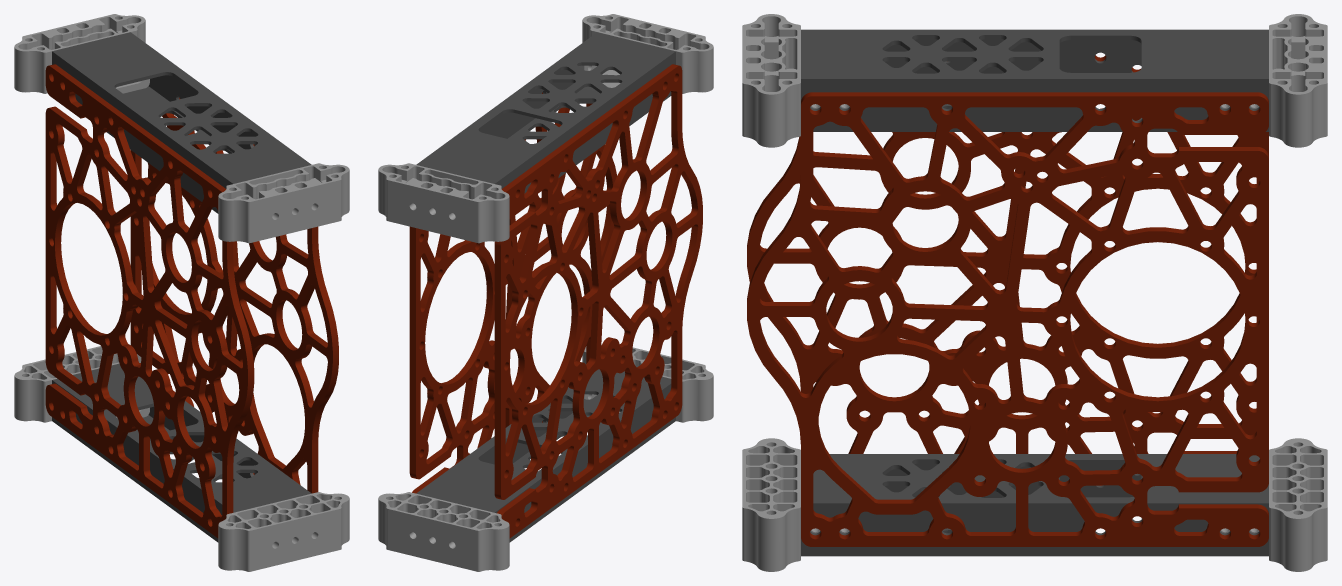
The picture shows the model from 3 angles, left to right: view 1: azimuth 30°, elevation 25°; view 2: azimuth 150°, elevation 25°; view 3: azimuth 270°, elevation 25°; orthographic projection. The views are drawn at different scales.
Parts seen in each view (by area): view 1: 0100-E-Plate-02, 0100-E-Tube-01 (×2), TR_BearingBlockV2 (×4), 0100-E-Plate-01; view 2: 0100-E-Plate-02, 0100-E-Tube-01 (×2), TR_BearingBlockV2 (×4), 0100-E-Plate-01; view 3: 0100-E-Plate-01, 0100-E-Tube-01 (×2), 0100-E-Plate-02, TR_BearingBlockV2 (×4).
Boxes of the visible parts, <box> form: 0100-E-Plate-02: <box>45,64,254,538</box>; 0100-E-Tube-01 (×2): <box>52,32,311,542</box>; TR_BearingBlockV2 (×4): <box>14,14,349,571</box>; 0100-E-Plate-01: <box>130,97,338,493</box>; 0100-E-Plate-02: <box>494,64,702,538</box>; 0100-E-Tube-01 (×2): <box>416,32,675,542</box>; TR_BearingBlockV2 (×4): <box>378,14,713,571</box>; 0100-E-Plate-01: <box>409,92,616,493</box>; 0100-E-Plate-01: <box>747,92,1268,546</box>; 0100-E-Tube-01 (×2): <box>801,29,1268,556</box>; 0100-E-Plate-02: <box>747,55,1268,485</box>; TR_BearingBlockV2 (×4): <box>742,14,1327,571</box>.
Bounding box in the file's own units: 0.0815 × 0.225 × 0.25.
